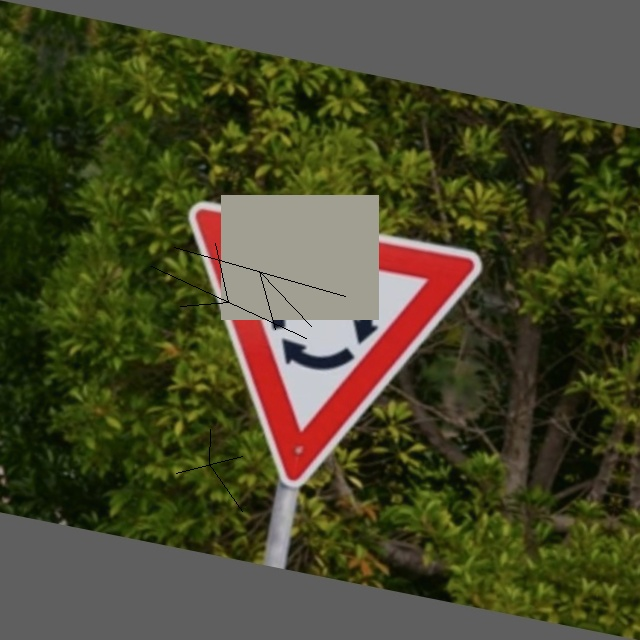Round_About: (146, 187, 483, 510)
